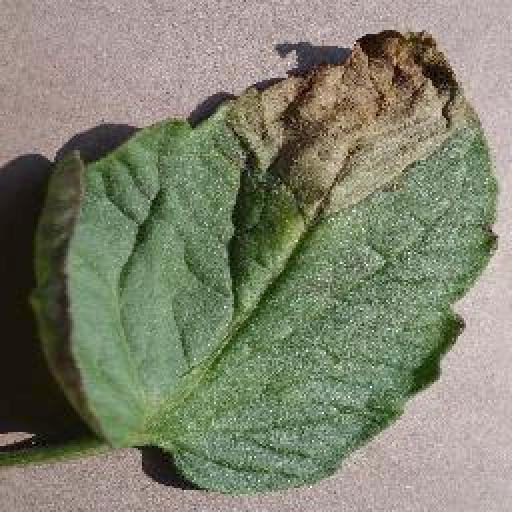disease_tomato: (36, 25, 502, 495)
